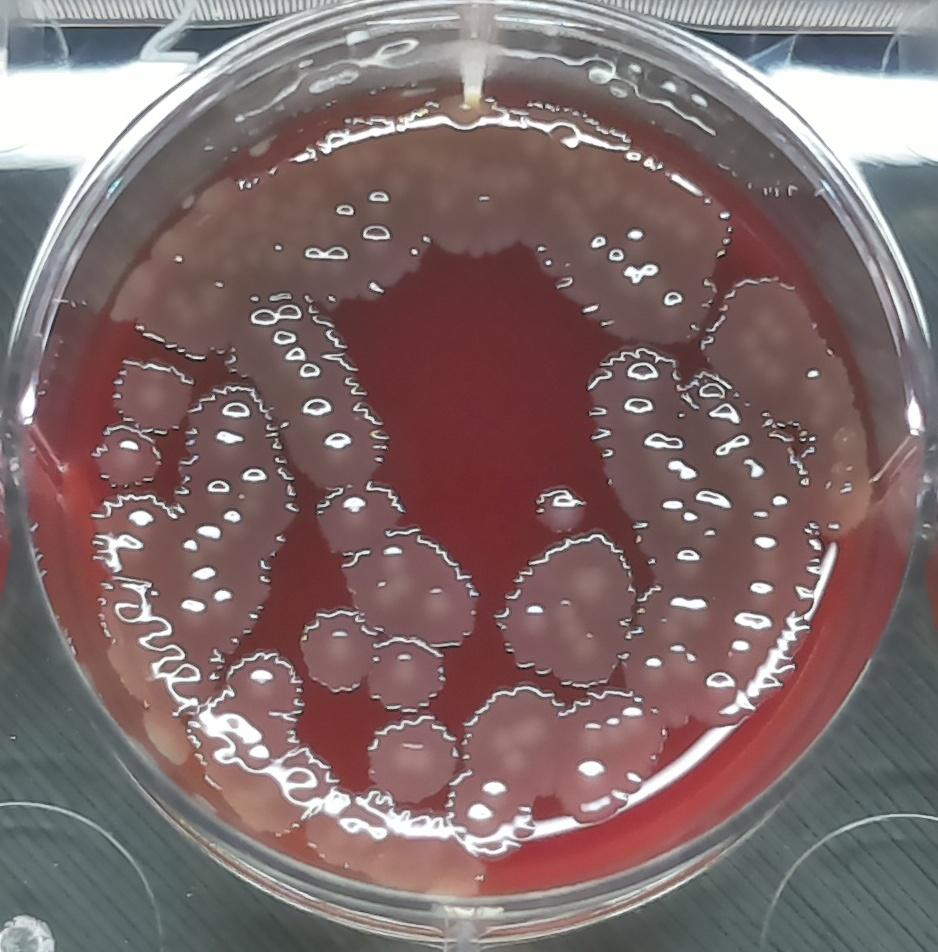vproteolyticus: (101, 107, 428, 365), (526, 113, 733, 353), (667, 369, 821, 685), (243, 307, 386, 490), (490, 526, 638, 689), (341, 530, 485, 659), (306, 792, 484, 896), (414, 102, 528, 263), (553, 689, 676, 835), (694, 268, 812, 406), (463, 679, 572, 808), (587, 428, 702, 524), (439, 766, 540, 864), (618, 625, 712, 723), (797, 432, 878, 541), (365, 714, 462, 804), (578, 341, 681, 424), (100, 352, 196, 439), (82, 495, 178, 582), (221, 646, 306, 732), (626, 575, 718, 653), (313, 482, 402, 558), (295, 608, 370, 698), (365, 638, 449, 717), (79, 422, 167, 493), (531, 487, 589, 539)
